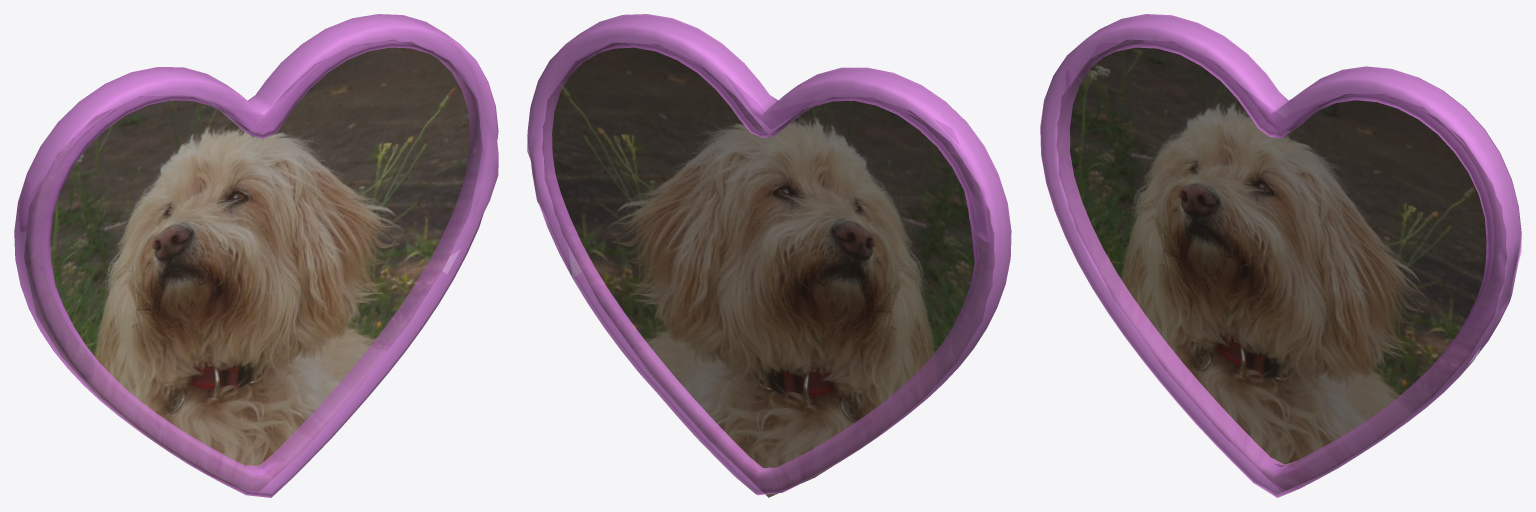
File: paula3d.glb
The picture shows the model from 3 angles, left to right: view 1: azimuth 30°, elevation 25°; view 2: azimuth 150°, elevation 25°; view 3: azimuth 330°, elevation 25°; orthographic projection.
Parts seen in each view (by area): view 1: NurbsPath; view 2: NurbsPath; view 3: NurbsPath.
Boxes of the visible parts, x1,y1,x2,y2 form: NurbsPath: (14,14,498,497); NurbsPath: (527,14,1011,497); NurbsPath: (1040,14,1521,497).
Bounding box in the file's own units: 0.6703 × 0.6073 × 0.0508.
2 materials, 1 textured.
